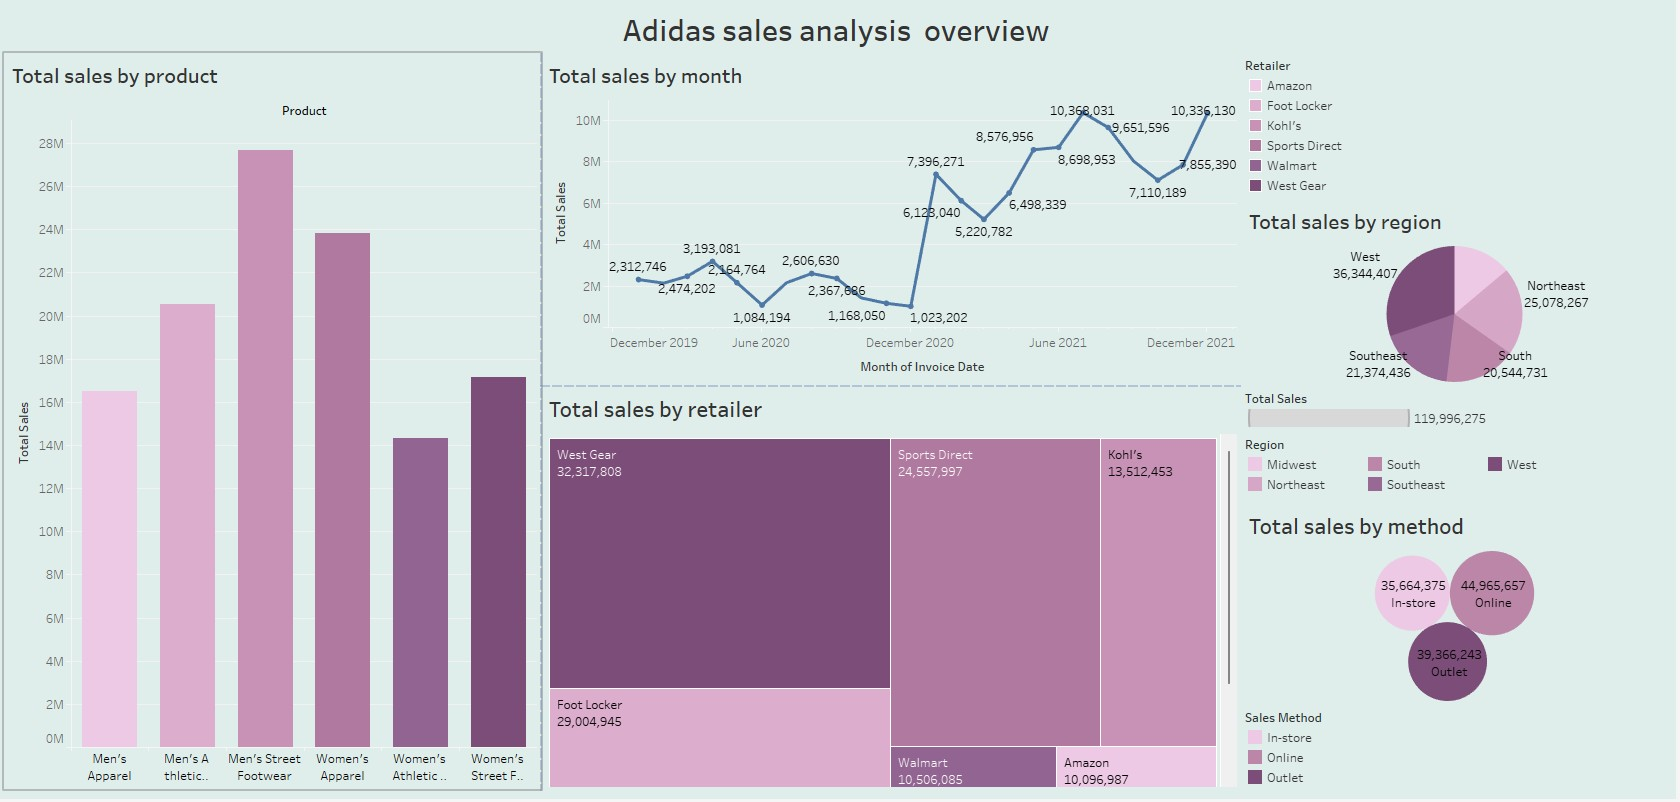

Layout of this report page (visuals, bound fields, positions):
{"tool":"tableau","page":{"name":"Dashboard 1","canvas":[1000,1000],"units":"permille","ordinal":0},"visuals":[{"type":"title","box":[4.8,10,990.5,59.9]},{"type":"worksheet","title":"Sheet 1","mark":"Automatic","rows":["total_sales"],"cols":["product"],"box":[4.8,69.8,319.6,920.2]},{"type":"worksheet","title":"Sheet 5","mark":"Automatic","rows":["total_sales"],"cols":["invoice_date"],"box":[324.4,69.8,416.7,415.2]},{"type":"legend","title":"Sheet 2","param":"[federated.0ez20uk1acr1jv1fblqbe1iexs01].[none:retailer:nk]","box":[741.1,69.8,254.2,182.1]},{"type":"worksheet","title":"Sheet 4","mark":"Pie","box":[741.1,251.9,254.2,233.1]},{"type":"worksheet","title":"Sheet 2","mark":"Automatic","box":[324.4,485,416.7,505]},{"type":"legend","title":"Sheet 4","param":"[federated.0ez20uk1acr1jv1fblqbe1iexs01].[sum:total_sales:qk]","box":[741.1,485,254.2,57.4]},{"type":"legend","title":"Sheet 4","param":"[federated.0ez20uk1acr1jv1fblqbe1iexs01].[none:region:nk]","box":[741.1,542.4,254.2,88.5]},{"type":"worksheet","title":"Sheet 3","mark":"Circle","box":[741.1,630.9,254.2,251.9]},{"type":"legend","title":"Sheet 3","param":"[federated.0ez20uk1acr1jv1fblqbe1iexs01].[none:sales_method:nk]","box":[741.1,882.8,254.2,107.2]}]}

Visuals, with their boxes on the dashboard's canvas, which has no fixed pixel size, in thousandths of its width and height (x1, y1, x2, y2). These are canvas units, not pixel positions in the 1680x802 screenshot, which may show the page scaled, cropped or inside an application window:
title: (left=5, top=10, right=995, bottom=70)
"Sheet 1" worksheet: (left=5, top=70, right=324, bottom=990)
"Sheet 5" worksheet: (left=324, top=70, right=741, bottom=485)
"Sheet 2" legend: (left=741, top=70, right=995, bottom=252)
"Sheet 4" worksheet (Pie marks): (left=741, top=252, right=995, bottom=485)
"Sheet 2" worksheet: (left=324, top=485, right=741, bottom=990)
"Sheet 4" legend: (left=741, top=485, right=995, bottom=542)
"Sheet 4" legend: (left=741, top=542, right=995, bottom=631)
"Sheet 3" worksheet (Circle marks): (left=741, top=631, right=995, bottom=883)
"Sheet 3" legend: (left=741, top=883, right=995, bottom=990)
